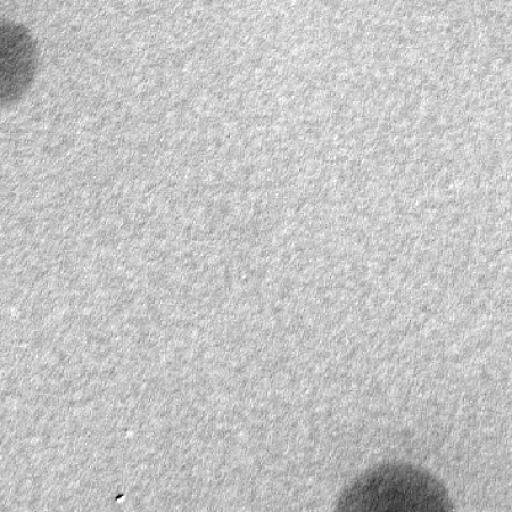Nanoparticles: (330, 461, 450, 510), (1, 19, 37, 104)
